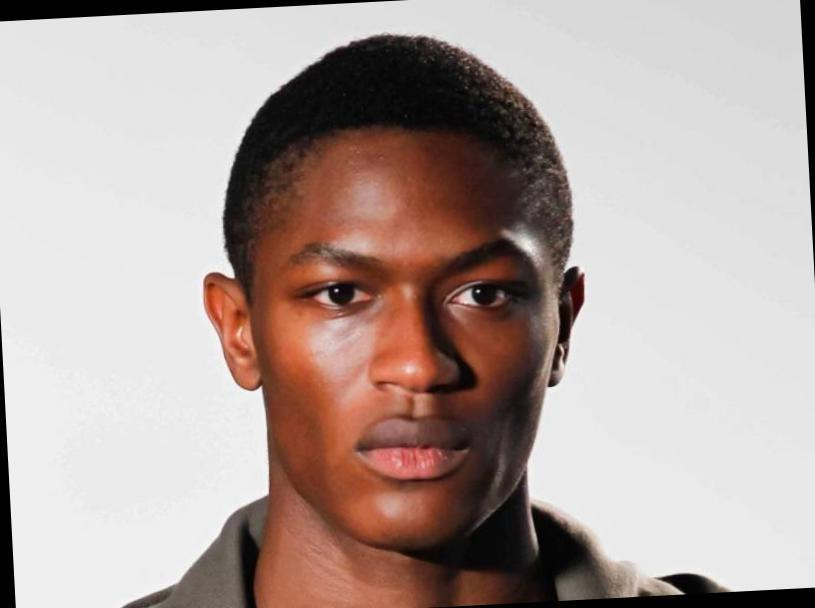Sober: (255, 139, 547, 532)
